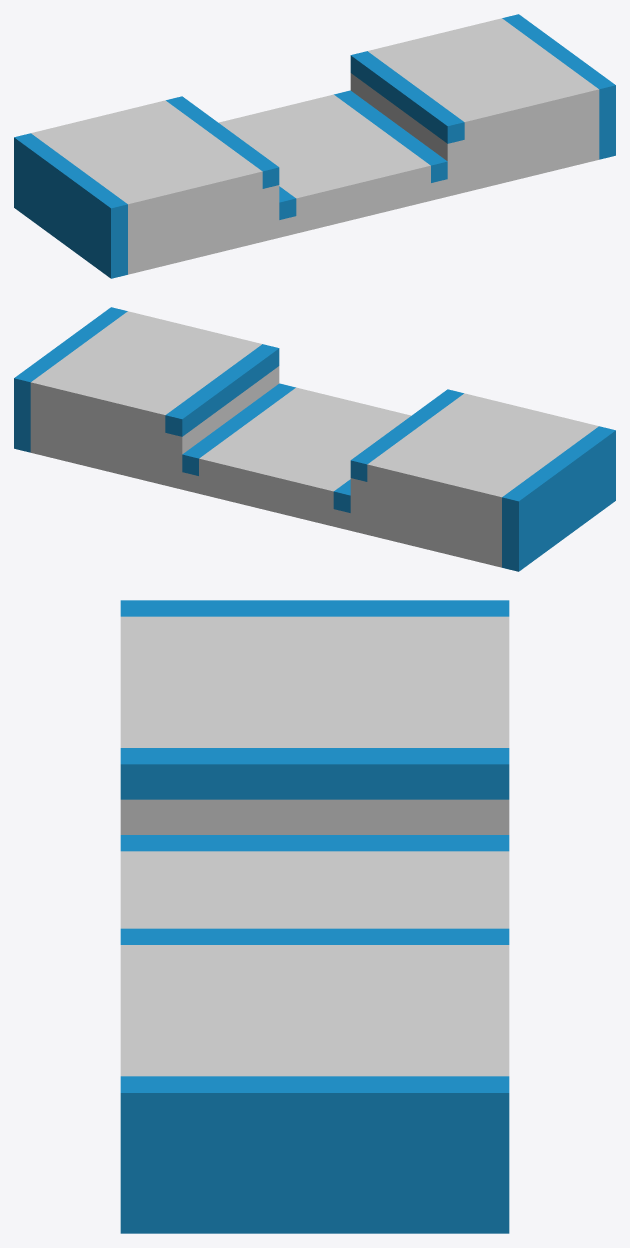
File: AlleyDefault.fbx
The picture shows the model from 3 angles, top to bottom: view 1: azimuth 30°, elevation 25°; view 2: azimuth 150°, elevation 25°; view 3: azimuth 270°, elevation 25°; orthographic projection. The views are drawn at different scales.
Visible parts, largest first — view 1: Box_2; view 2: Box_2; view 3: Box_2.
Part boxes in pixels (x1,y1,x2,y2): Box_2: [14, 14, 615, 278]; Box_2: [14, 307, 615, 571]; Box_2: [120, 600, 509, 1233].
Size of the model in its own units: 30 by 4 by 10.
